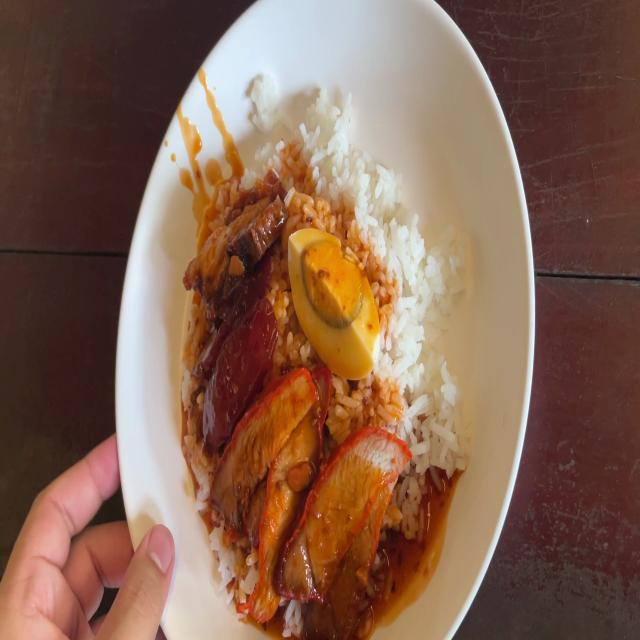01boiled_egg: (287, 228, 377, 378)
01chainese_sausage: (202, 262, 278, 428)
01crispy_pork: (191, 180, 283, 284)
01red_pork: (220, 382, 397, 636)
01red_pork_and_crispy_pork: (199, 106, 454, 608)
01rice: (373, 220, 461, 427), (272, 96, 402, 226)
